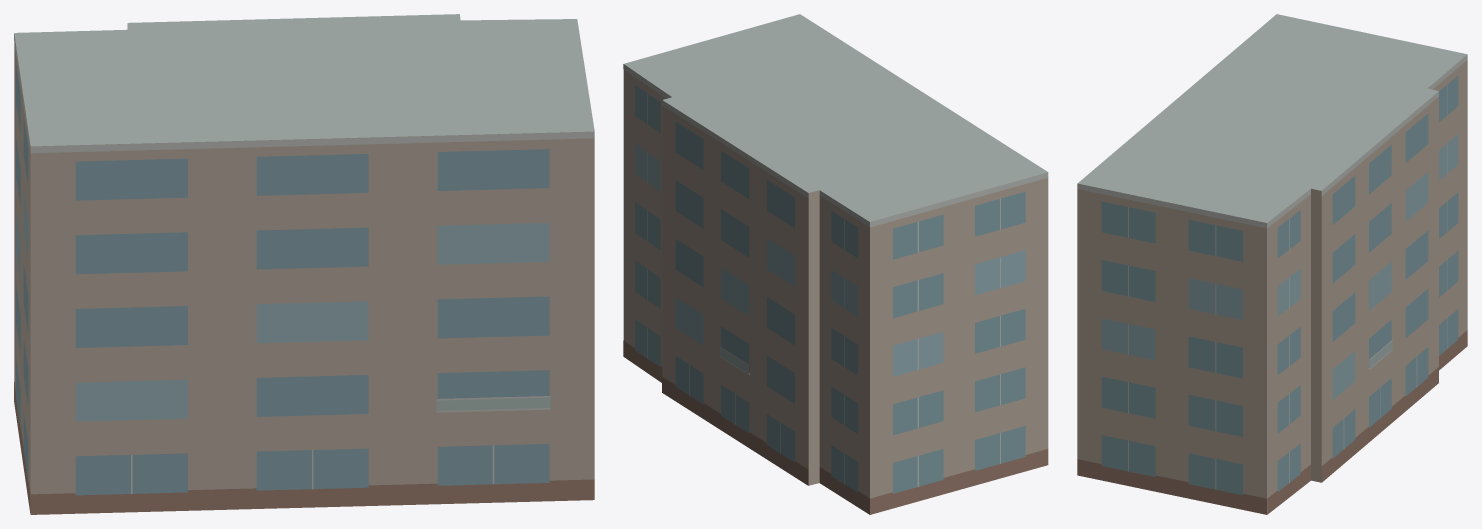
File: survey-upis-32893427.glb
The picture shows the model from 3 angles, left to right: view 1: azimuth 30°, elevation 25°; view 2: azimuth 150°, elevation 25°; view 3: azimuth 270°, elevation 25°; orthographic projection. The views are drawn at different scales.
Visible parts, largest first — view 1: survey-upis-32893427.tmp; view 2: survey-upis-32893427.tmp; view 3: survey-upis-32893427.tmp.
Part boxes in pixels (<box>): survey-upis-32893427.tmp: <box>14,14,594,514</box>; survey-upis-32893427.tmp: <box>623,14,1048,514</box>; survey-upis-32893427.tmp: <box>1077,14,1467,514</box>.
Size of the model in its own units: 20.28 by 13.2 by 16.
